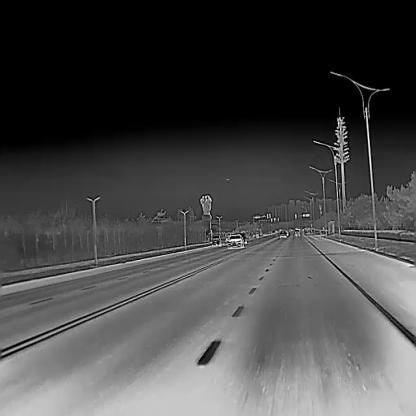car: (224, 234, 243, 247), (210, 234, 223, 246), (278, 230, 287, 238), (293, 228, 300, 238)
